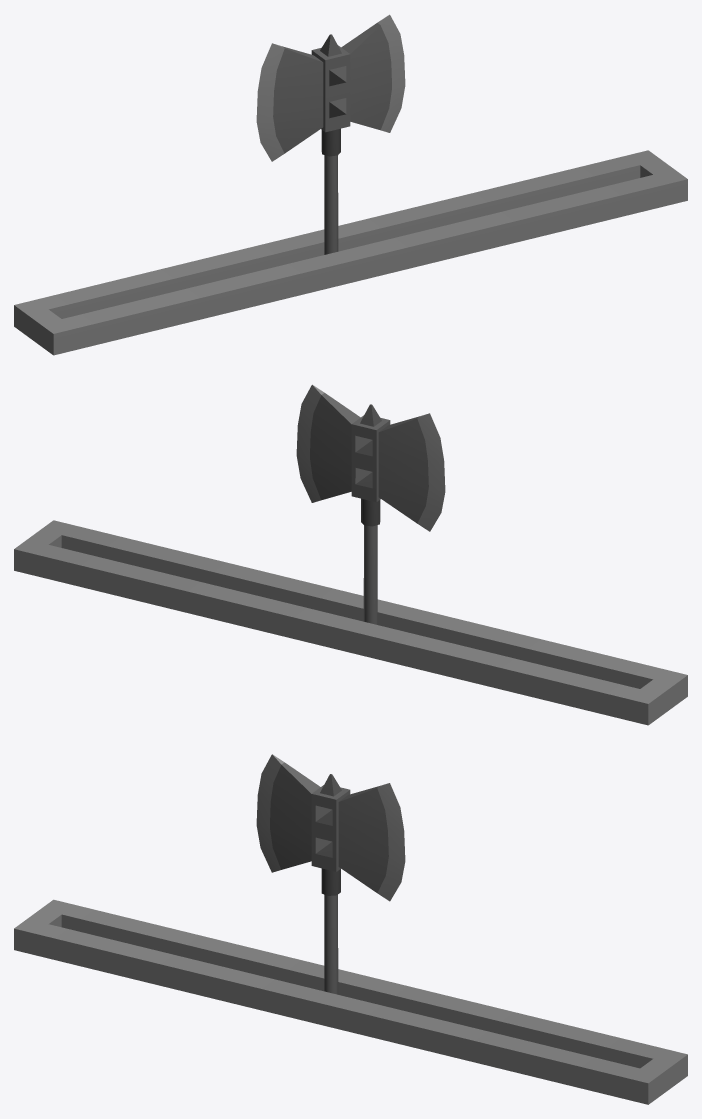
File: Mini_Loop_Trap_3.fbx
3 renders of one model, top to bottom at view 1: azimuth 30°, elevation 25°; view 2: azimuth 150°, elevation 25°; view 3: azimuth 330°, elevation 25°, orthographic.
Visible parts, largest first — view 1: Mini_Loop_Trap_3, Mini_Loop_Trap_3_Axe; view 2: Mini_Loop_Trap_3, Mini_Loop_Trap_3_Axe; view 3: Mini_Loop_Trap_3, Mini_Loop_Trap_3_Axe.
Boxes of the visible parts, box(x1,y1,x2,y2) form: Mini_Loop_Trap_3: box(14, 150, 687, 355); Mini_Loop_Trap_3_Axe: box(256, 14, 405, 254); Mini_Loop_Trap_3: box(14, 520, 687, 725); Mini_Loop_Trap_3_Axe: box(296, 384, 445, 624); Mini_Loop_Trap_3: box(14, 899, 687, 1104); Mini_Loop_Trap_3_Axe: box(256, 754, 405, 994).
Size of the model in its own units: 391 by 142 by 42.19.
1 material, 1 textured.
